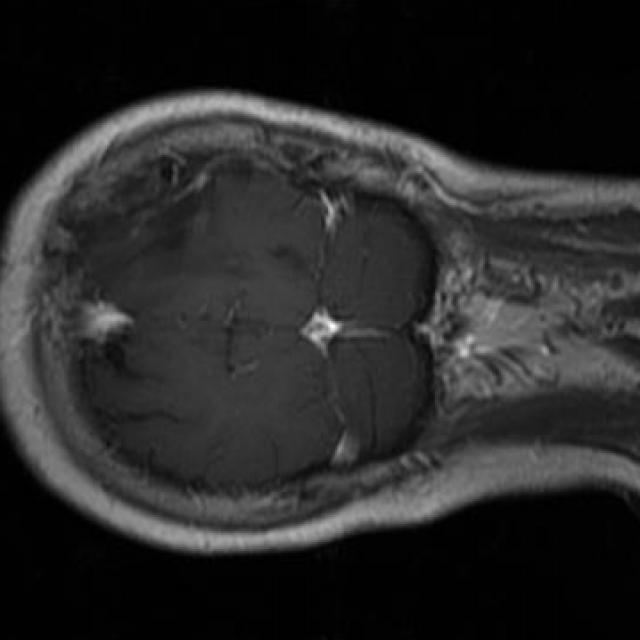glioma: (77, 152, 223, 257)
